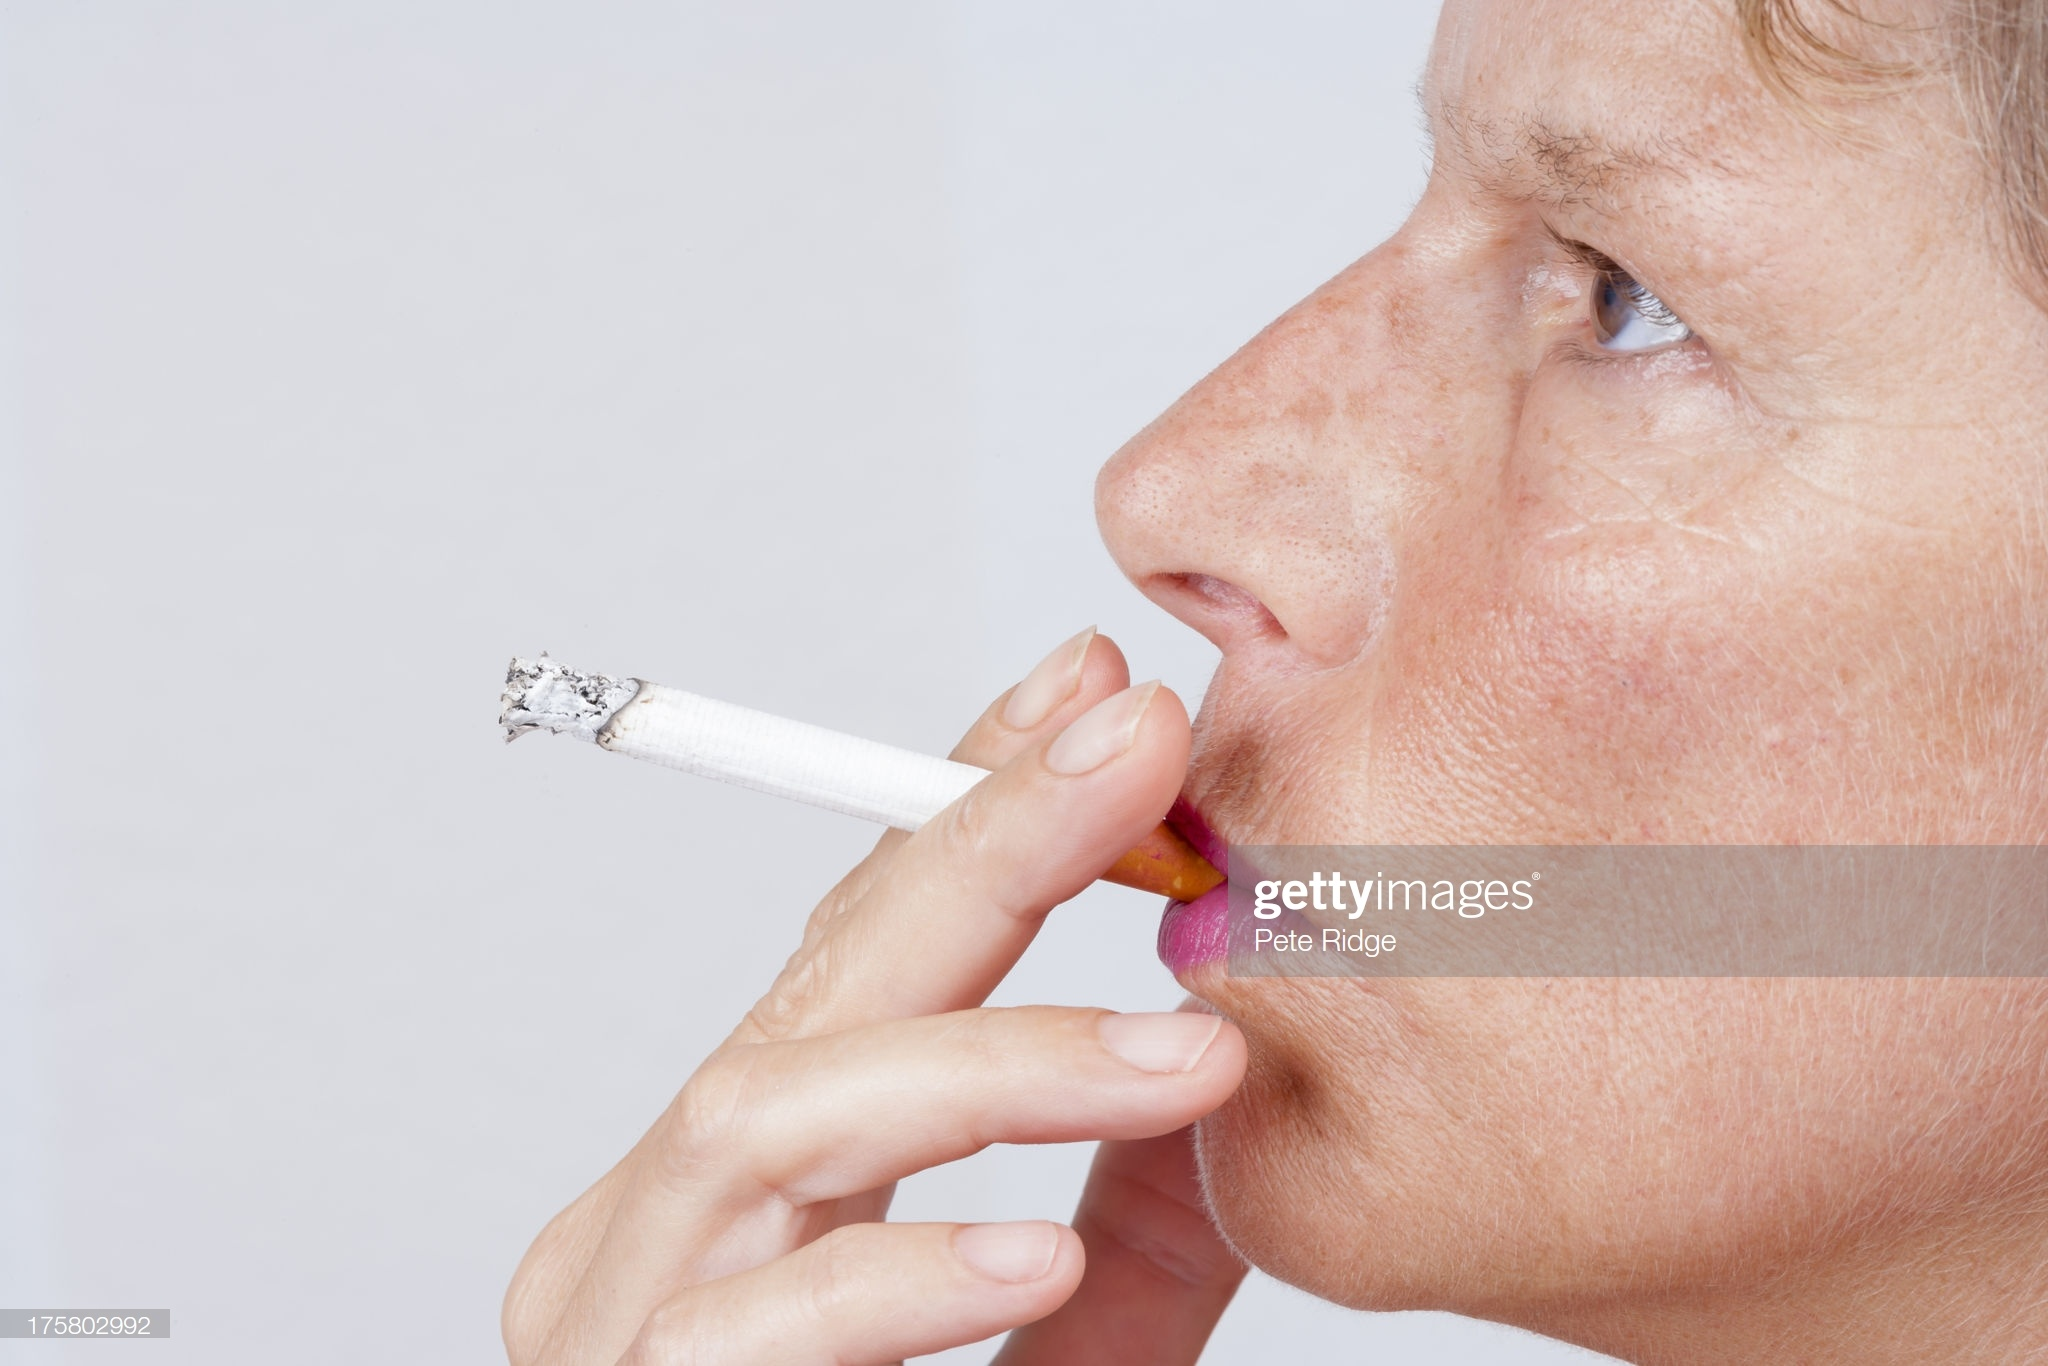sigaretta: (489, 653, 1222, 878)
